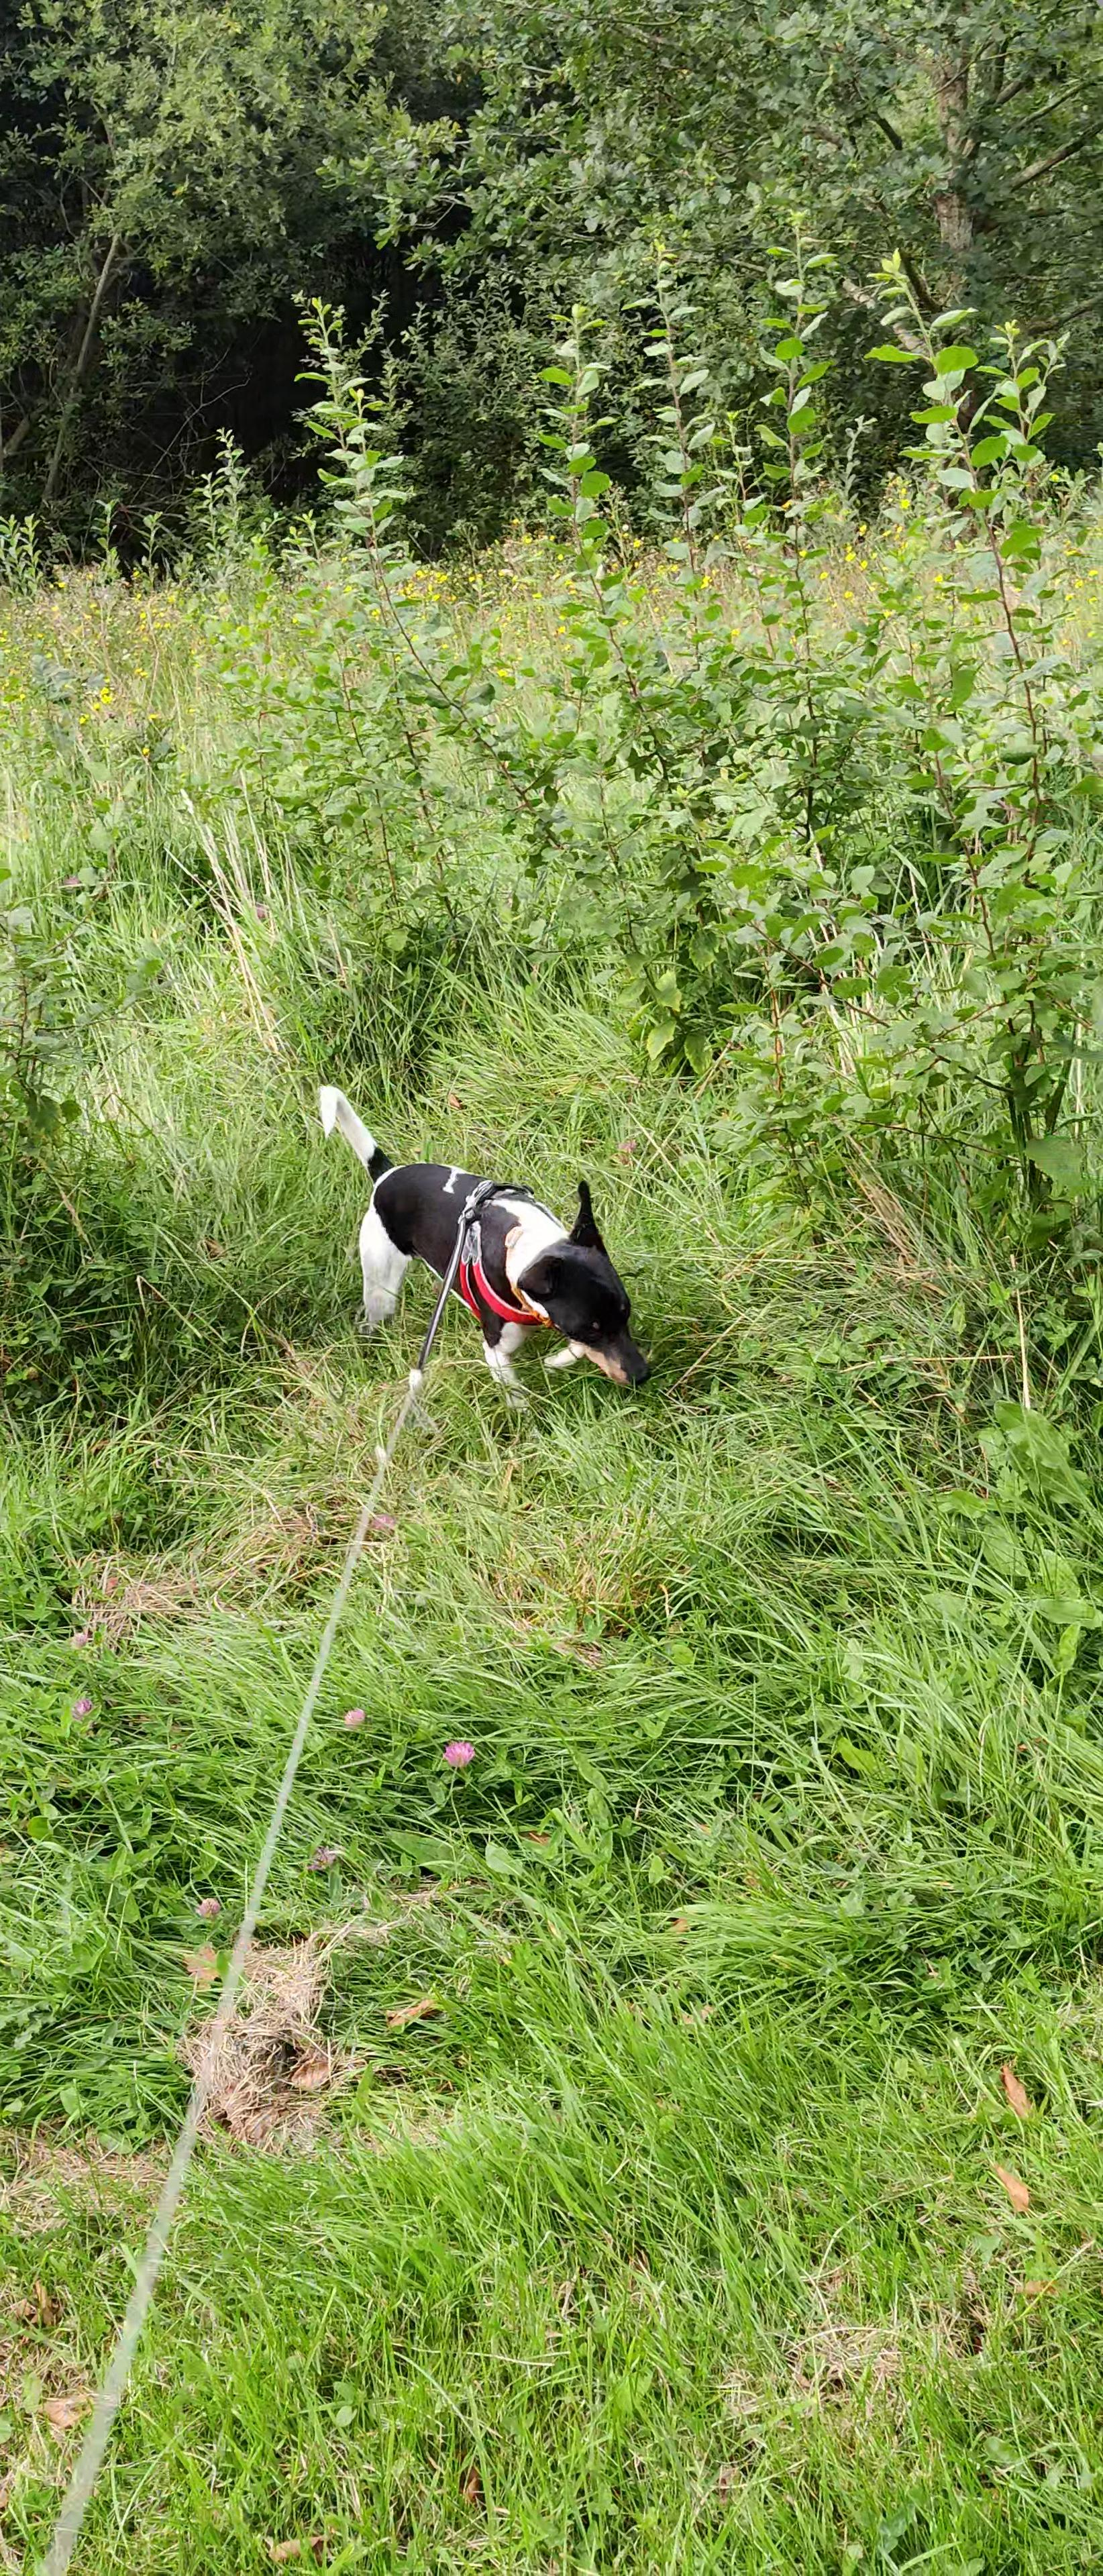Dog: (296, 1066, 664, 1419)
